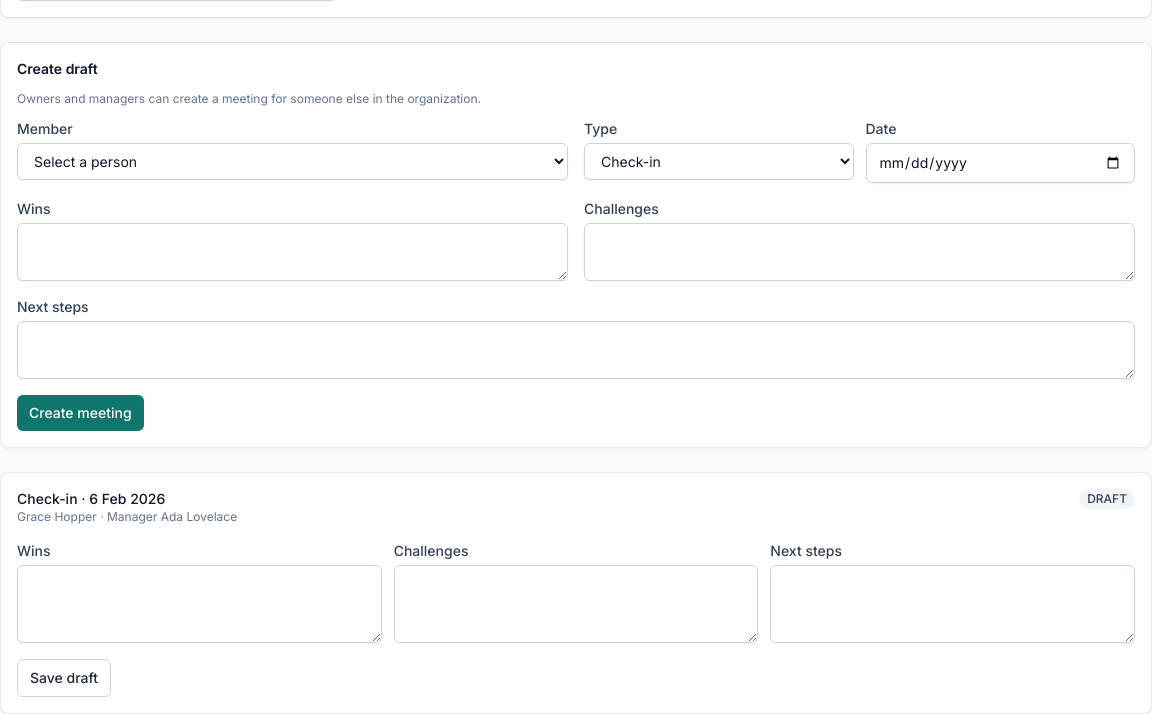
it: MeetingsPage › reports save failures next to the meeting
(page scrolled)
Click the button "Save draft": [64, 678] box [17,659,111,697]
(page scrolled)
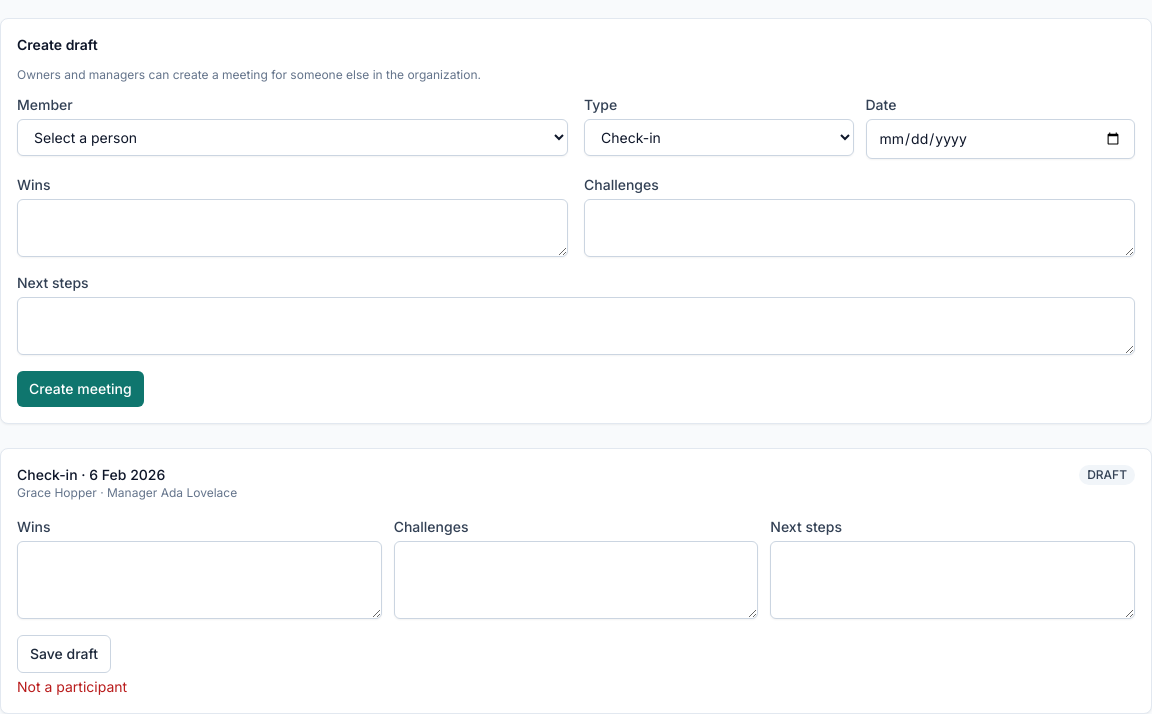
Check: the text "Not a participant" is shown, box [17,678,127,695]
